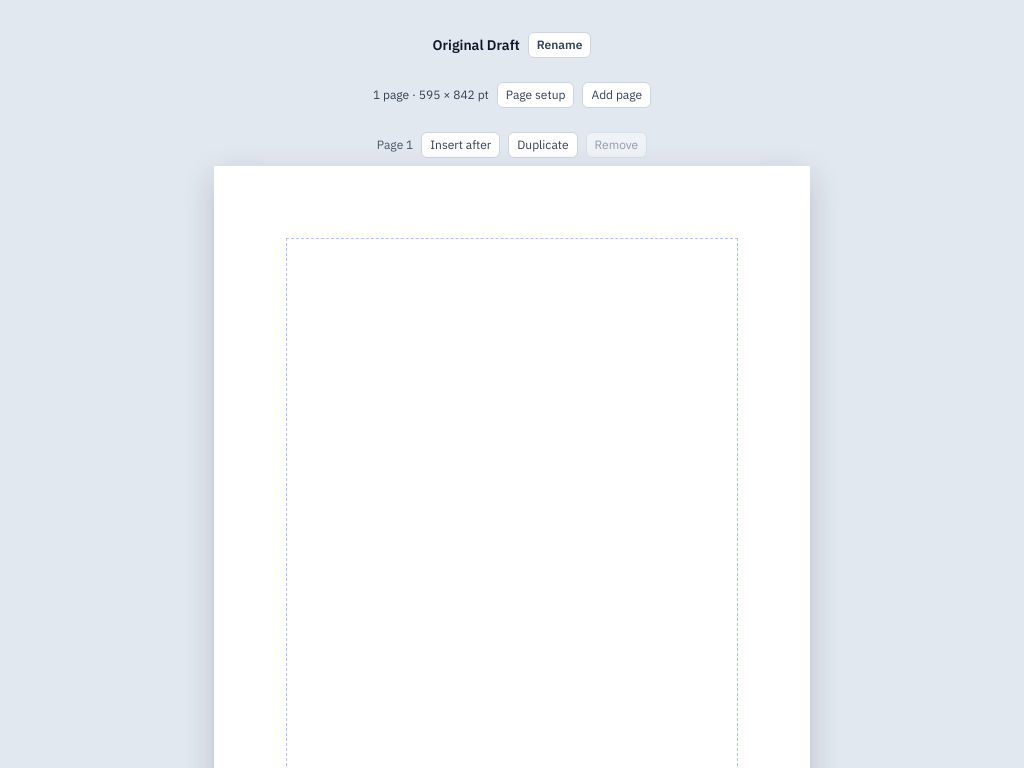
Test: WriterBlankDocumentCanvas rename flow › cancels rename without changing title
Click the button with test id "writer-blank-document-rename-button". click: x=560, y=45
box: [528,32,591,58]
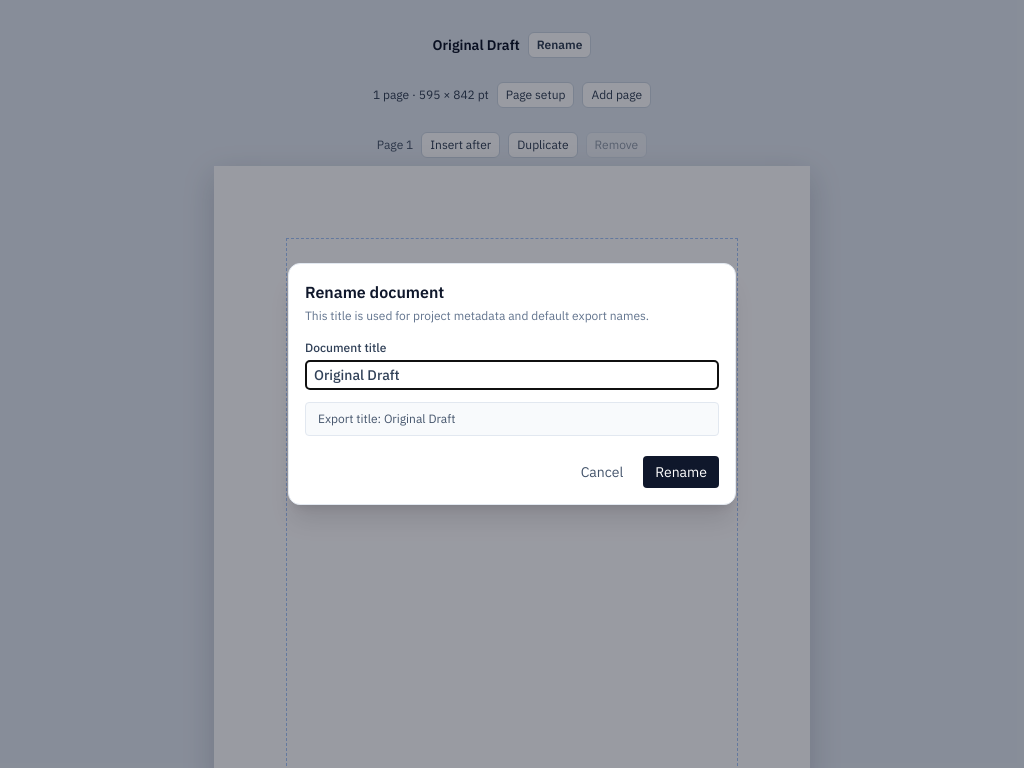
Replace the text in the field with test id "blank-document-rename-input" with "Changed Draft". click: x=512, y=375
box: [305,360,719,390]
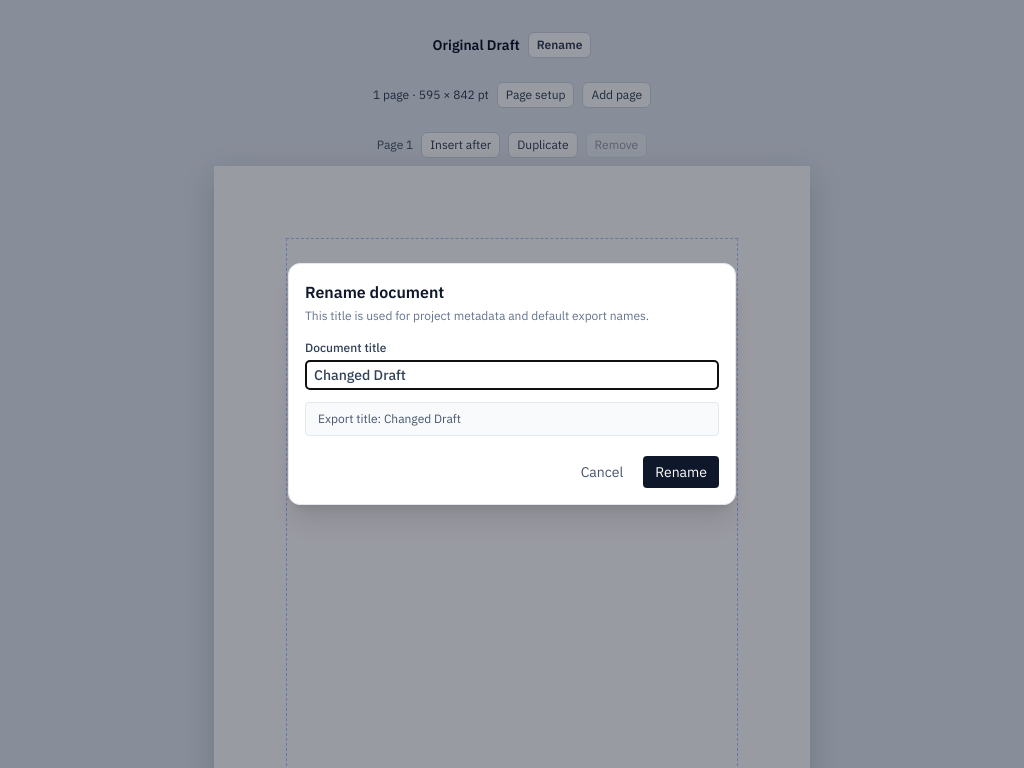
Click the button with test id "blank-document-rename-cancel-button". click: x=602, y=472
box: [569,456,635,488]
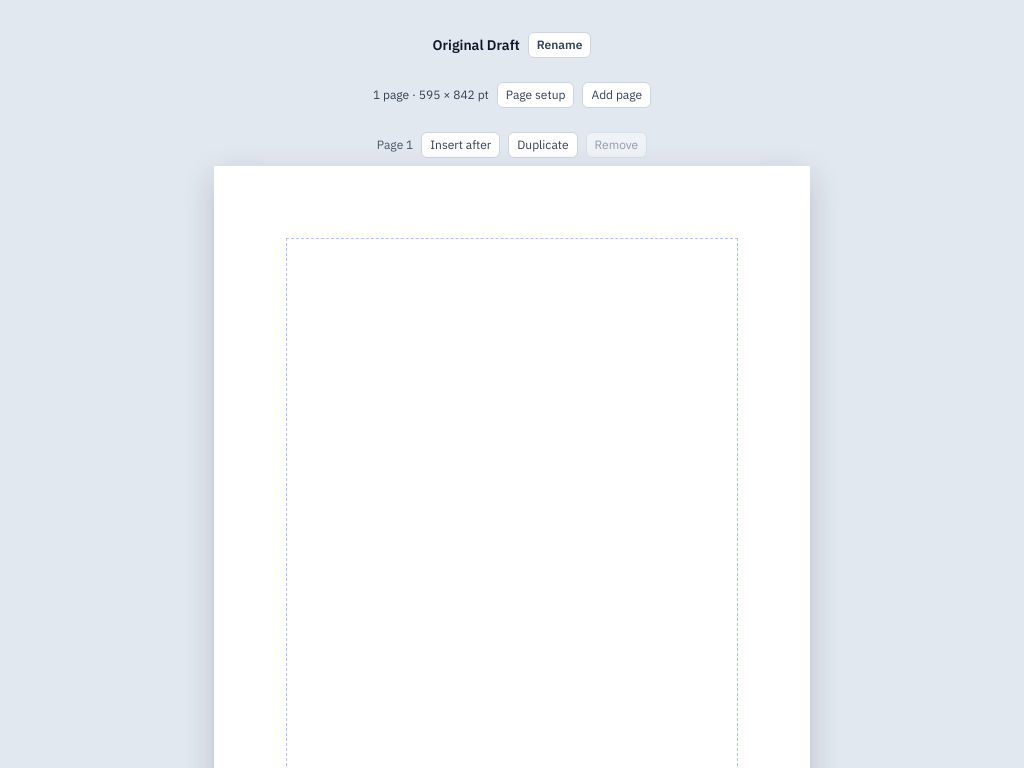
Expected: the text "Original Draft" is shown, [433,34,520,56]
Result: the dialog with test id "blank-document-rename-dialog" is gone
